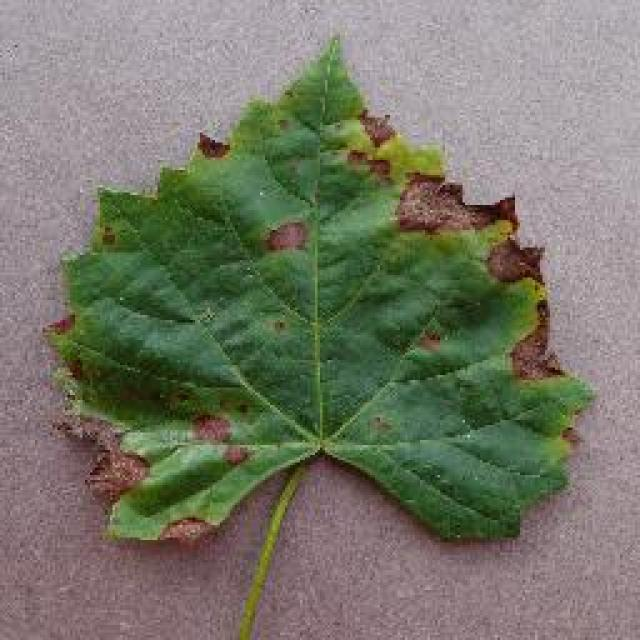Grape___Black_rot: (34, 26, 606, 552)
